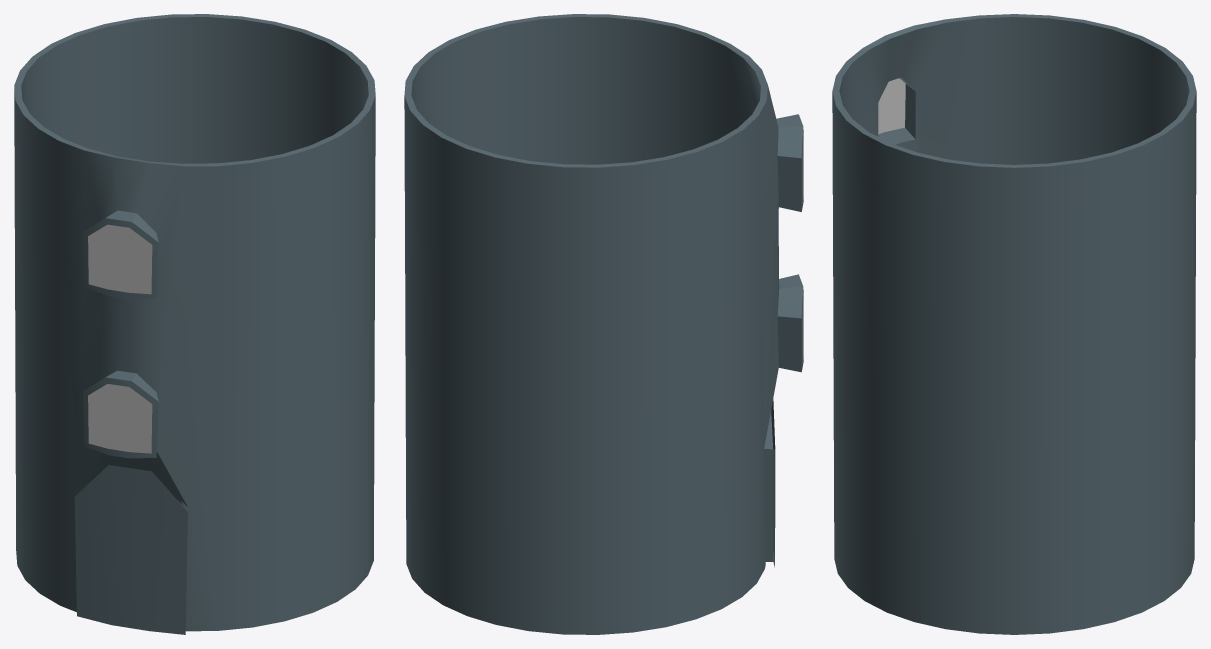
Rendered from Tower.fbx.
The picture shows the model from 3 angles, left to right: view 1: azimuth 30°, elevation 25°; view 2: azimuth 150°, elevation 25°; view 3: azimuth 270°, elevation 25°; orthographic projection.
Visible parts, largest first — view 1: room; view 2: room; view 3: room.
Part boxes in pixels (<box>): room: <box>14,14,375,634</box>; room: <box>404,14,803,634</box>; room: <box>832,14,1196,634</box>.
Bounding box in the file's own units: 749 × 1044 × 735.
